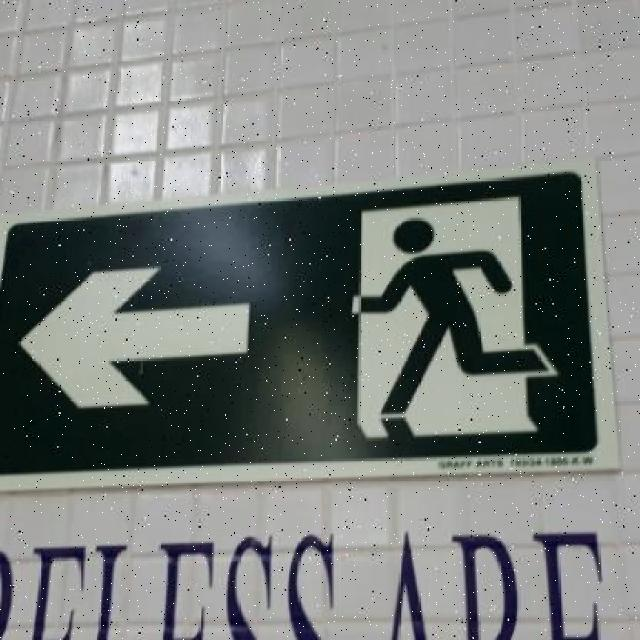emergency_exit: (1, 166, 620, 485)
